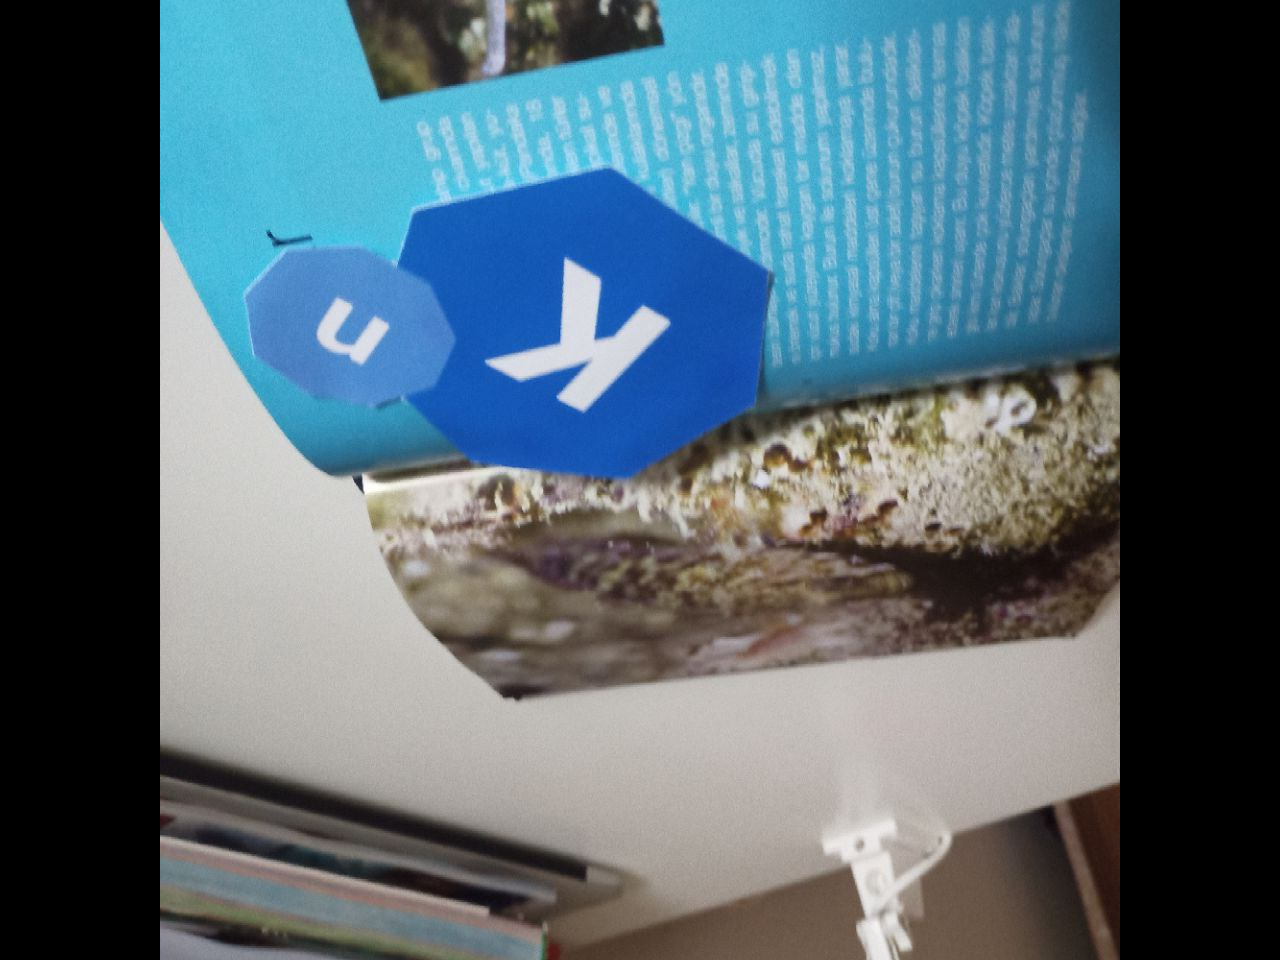knative: (243, 166, 777, 480)
